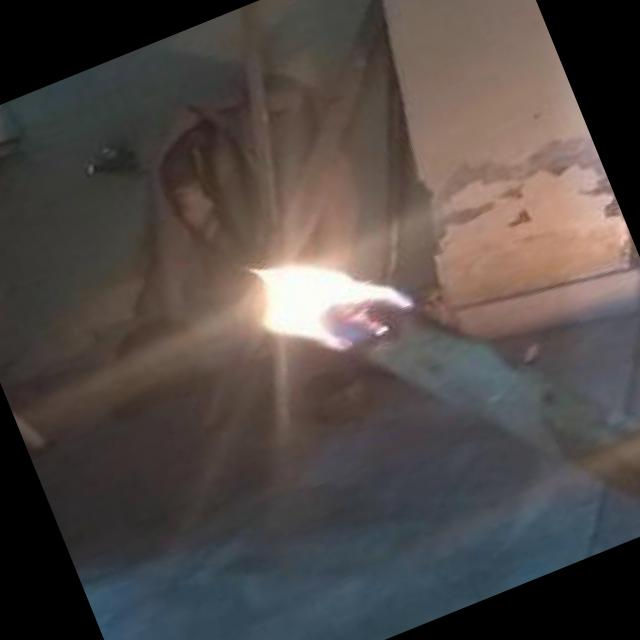fire: (185, 199, 442, 403)
